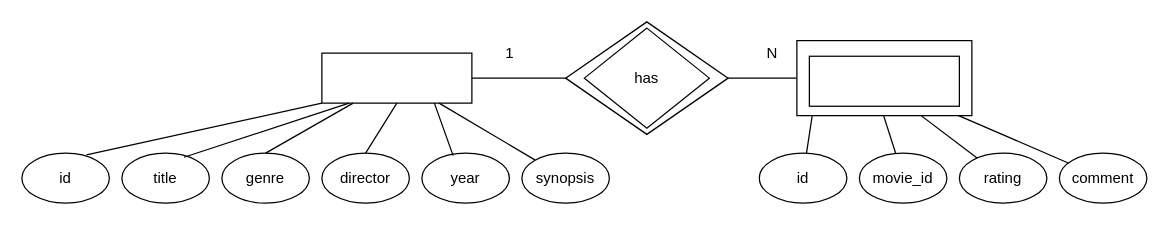
This 1169x225 diagram has some shape labels left out. The shapes that lost their labels are listed below. From the top down, each one's box as (x1, y1, x2, y2) in pixels, then its label:
(321, 52, 472, 103): Movies
(808, 55, 959, 106): Ratings
